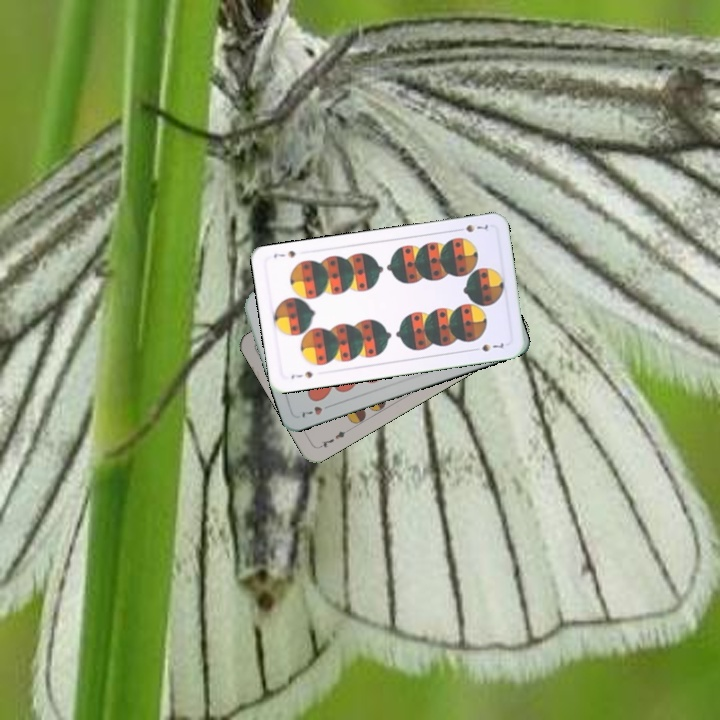E7: (315, 425, 352, 451)
H7: (298, 400, 335, 420)
S7: (452, 220, 491, 235), (287, 367, 315, 382)
